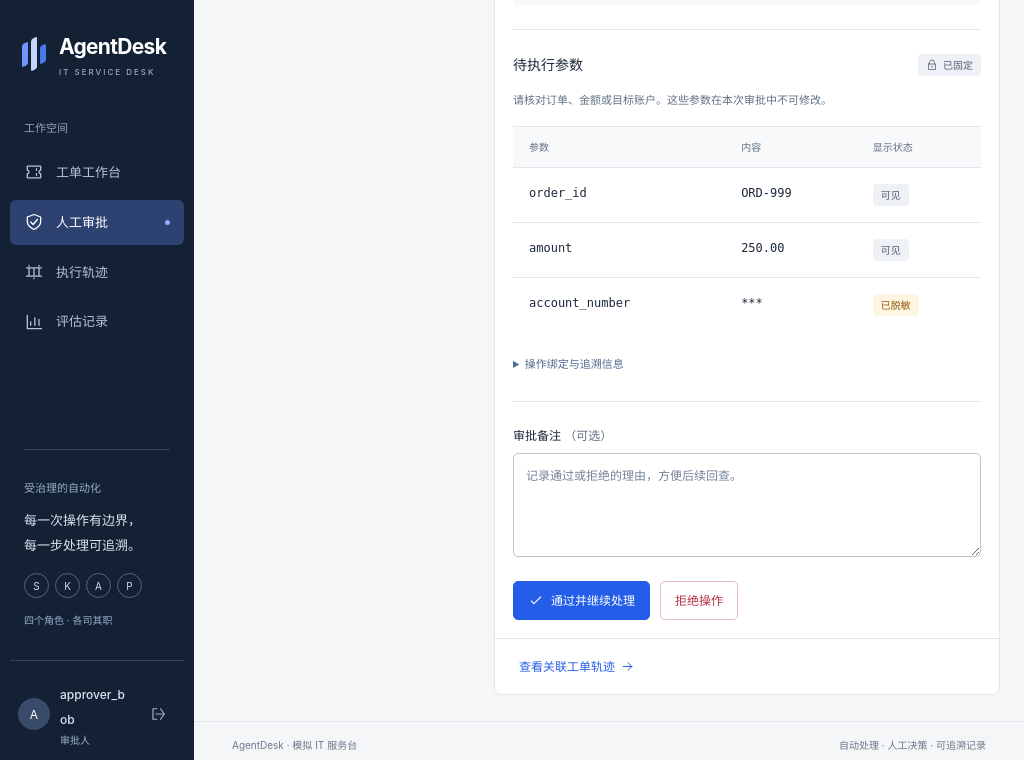
ApprovalView › displays error banner when 409 version conflict occurs
(page scrolled)
Click the button with test id "approve-button" at (582, 601), box [513,581,650,620]
(page scrolled)
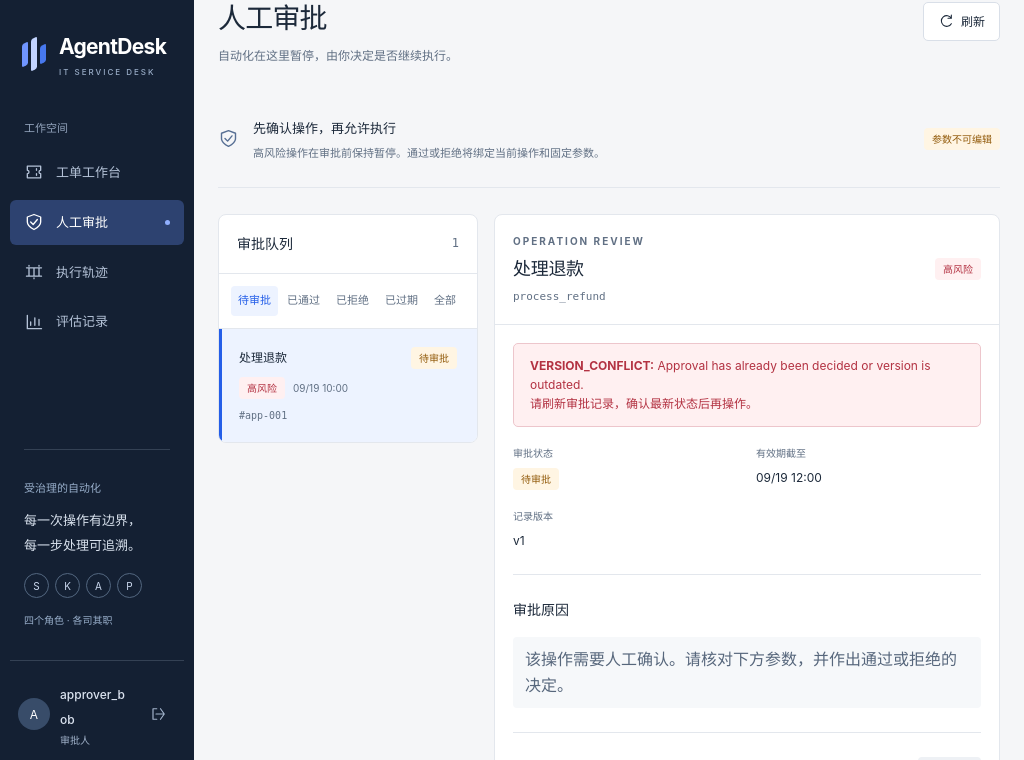
Now the message with test id "action-error" is shown, box [513,343,981,427]
Now the message with test id "action-error" shows "VERSION_CONFLICT", box [530,358,654,373]
Now the message with test id "action-error" shows "Approval has already been decided", box [530,358,930,392]
